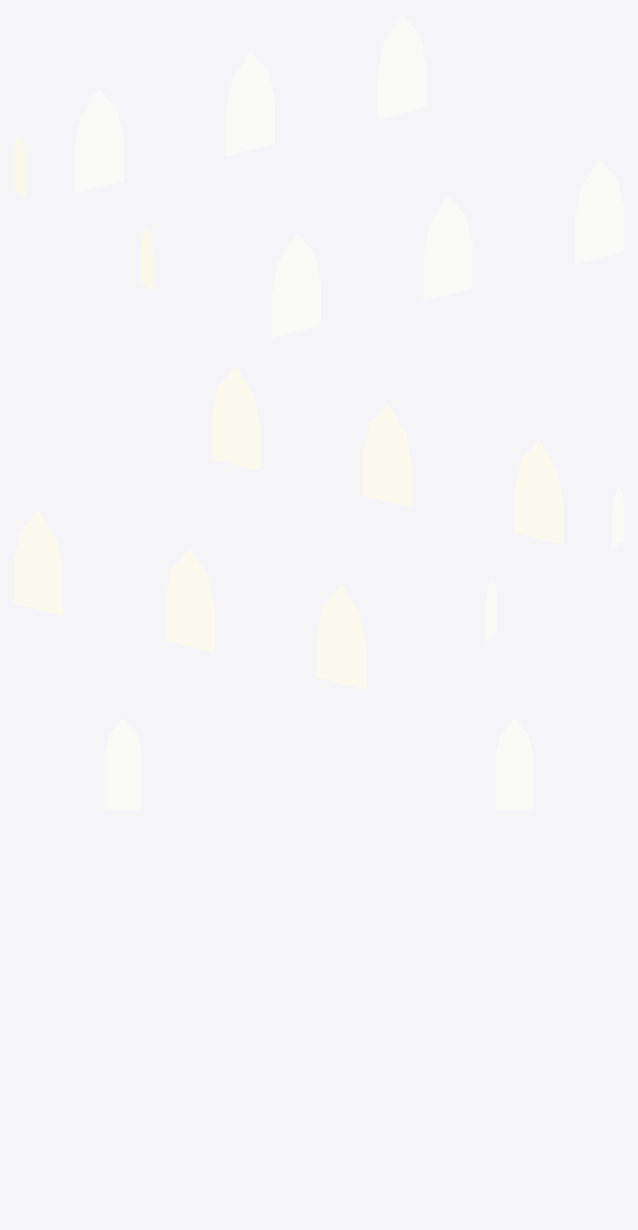
The model's file is SM_Town_Church_Glass_LOD2.fbx.
3 renders of one model, top to bottom at view 1: azimuth 30°, elevation 25°; view 2: azimuth 150°, elevation 25°; view 3: azimuth 270°, elevation 25°, orthographic. The views are drawn at different scales.
Visible parts, largest first — view 1: SM_Town_Church_Glass_LOD2; view 2: SM_Town_Church_Glass_LOD2; view 3: SM_Town_Church_Glass_LOD2.
Part boxes in pixels (<box>): SM_Town_Church_Glass_LOD2: <box>14,15,623,337</box>; SM_Town_Church_Glass_LOD2: <box>14,367,623,689</box>; SM_Town_Church_Glass_LOD2: <box>105,718,532,809</box>.
Size of the model in its own units: 11.67 by 9.04 by 2.7.
